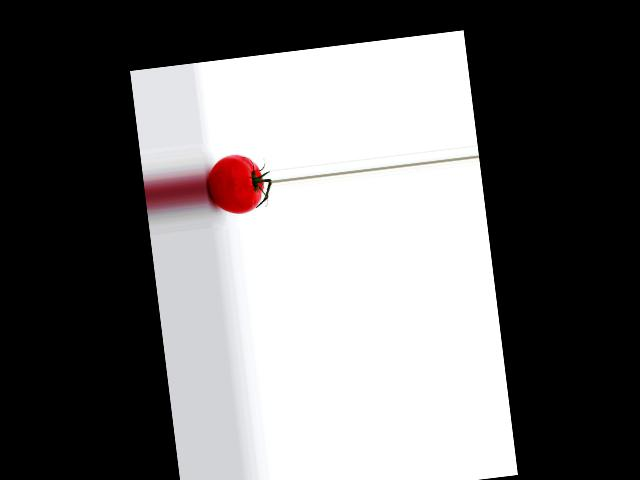tomato: (204, 150, 266, 216)
